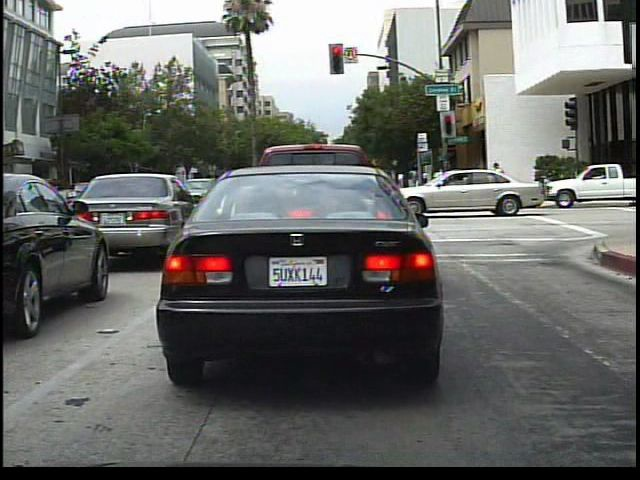person: (335, 161, 370, 218), (490, 157, 509, 198), (470, 158, 488, 200)
